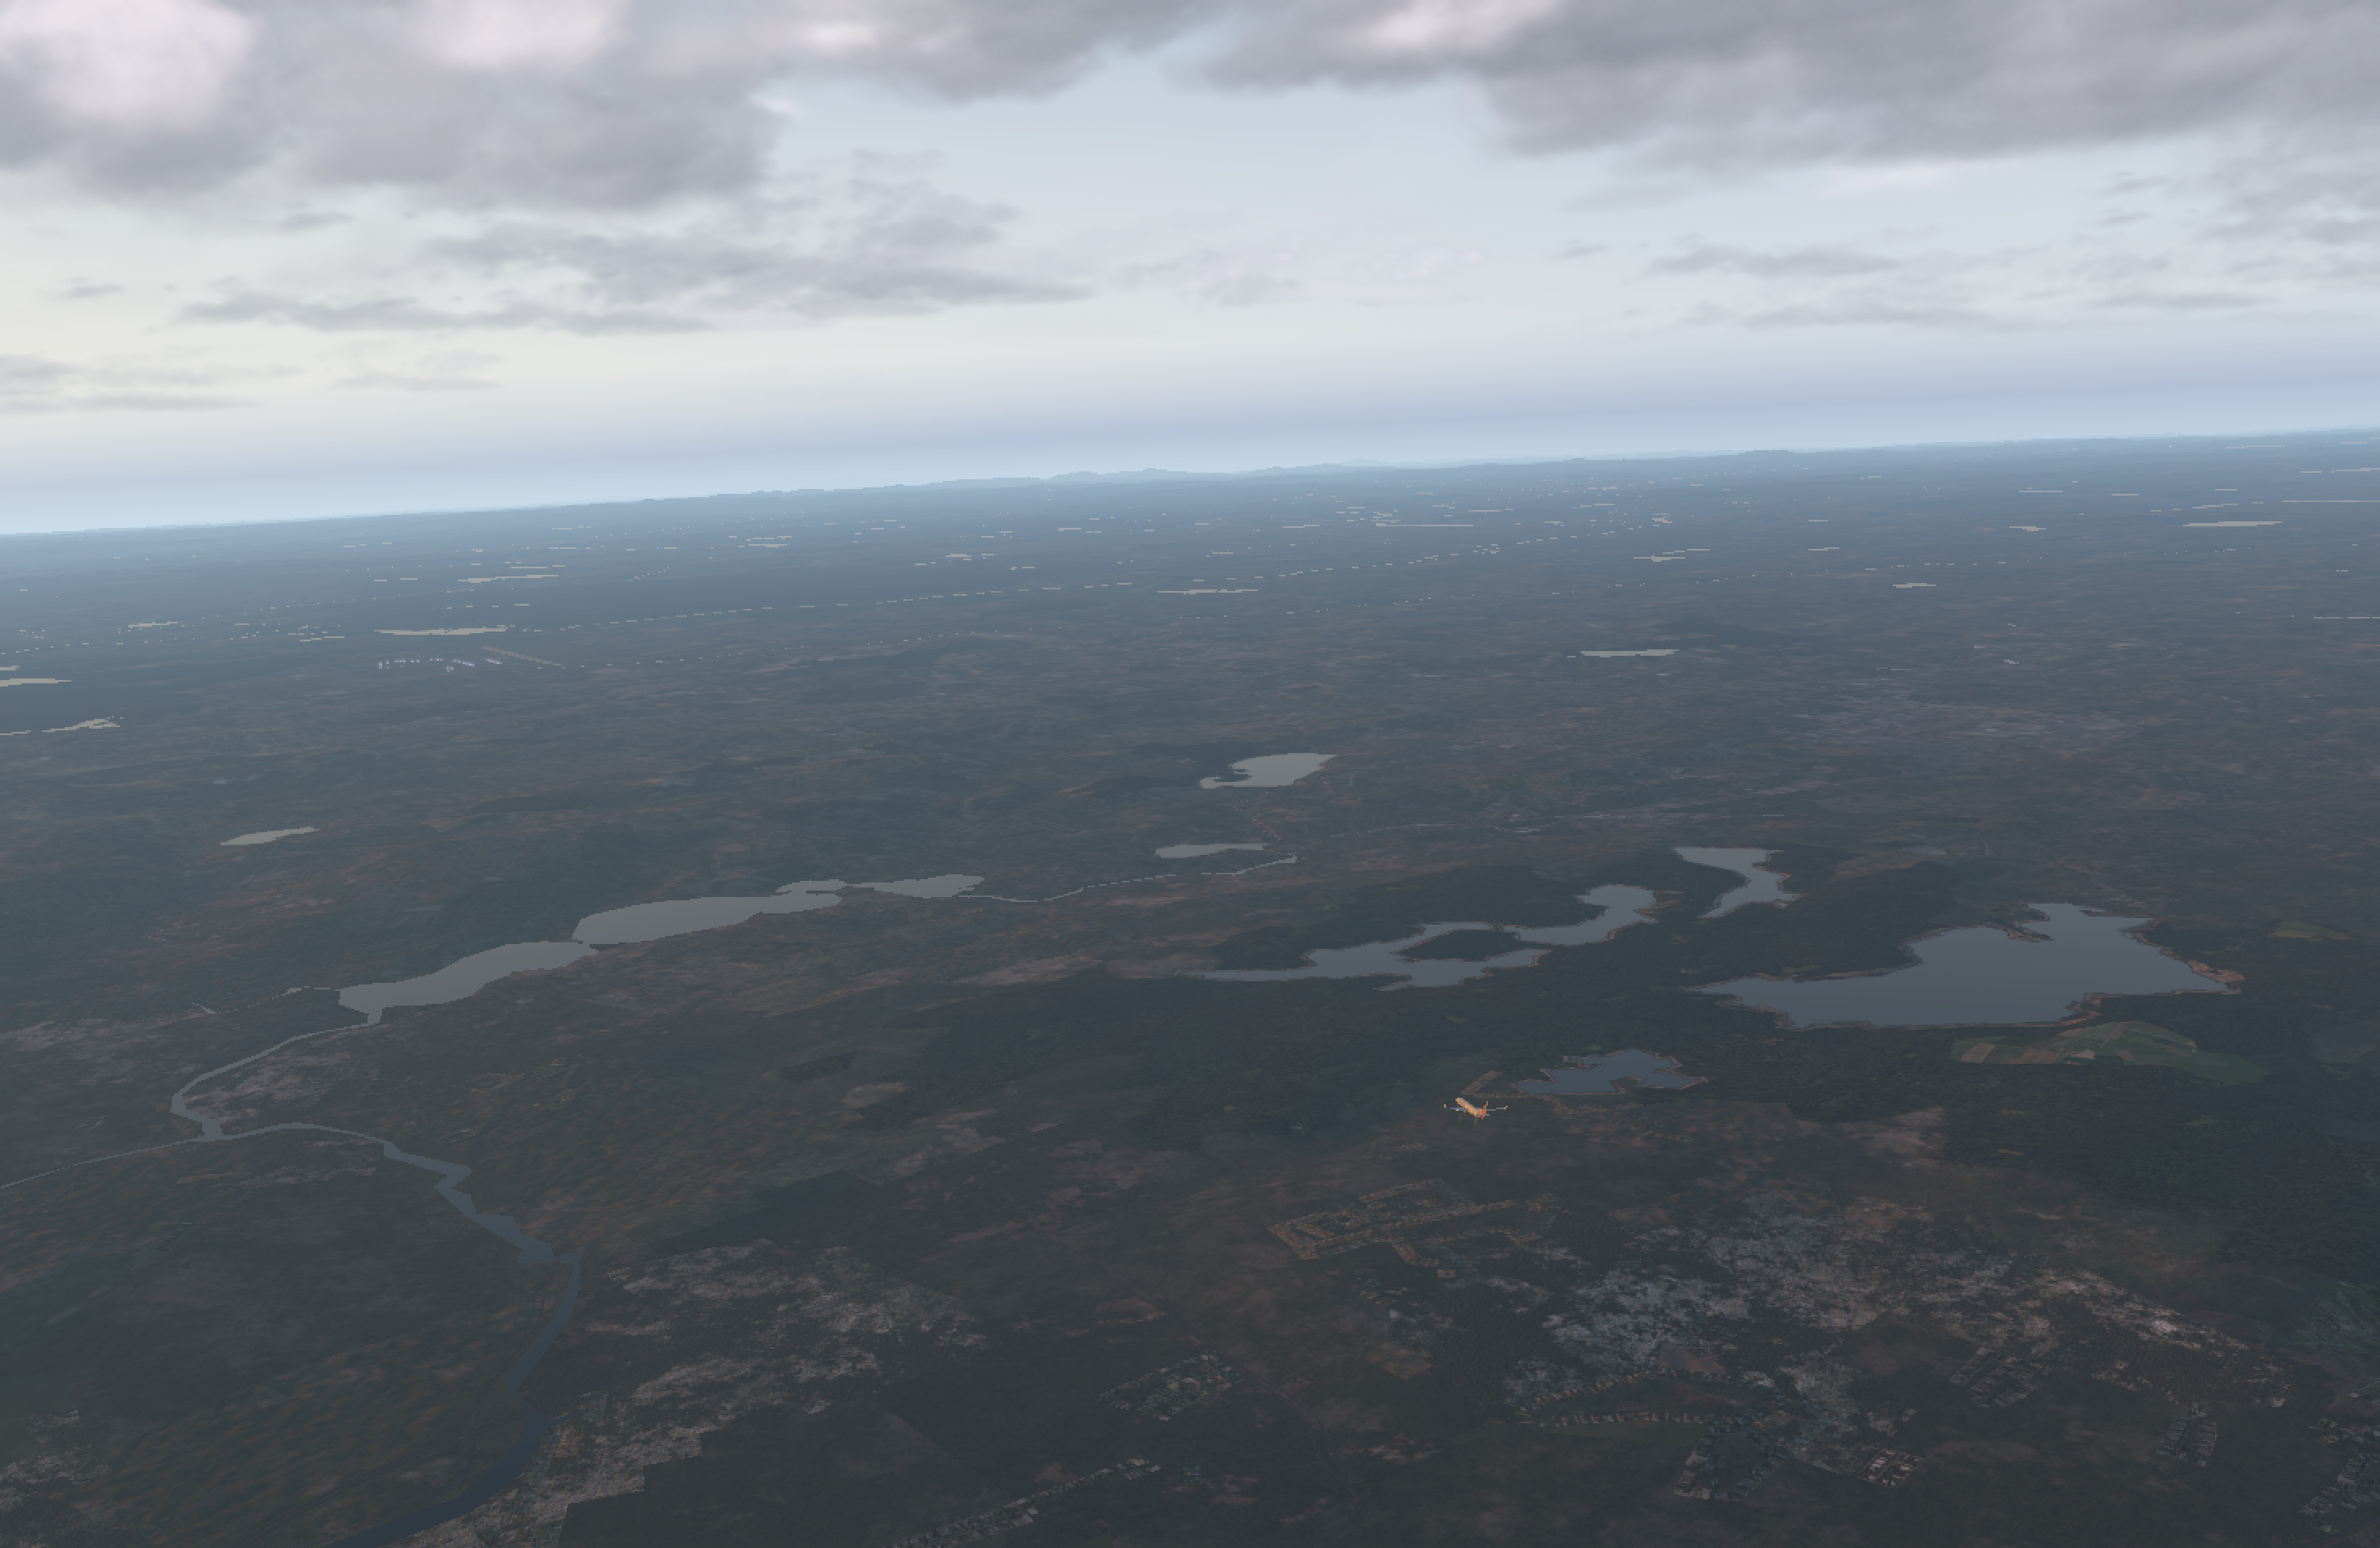aircraft: (1433, 1095, 1507, 1123)
